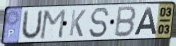A: (132, 6, 157, 37)
B: (113, 6, 138, 39)
K: (68, 9, 87, 38)
M: (38, 8, 67, 40)
S: (88, 6, 111, 39)
U: (20, 9, 44, 41)
